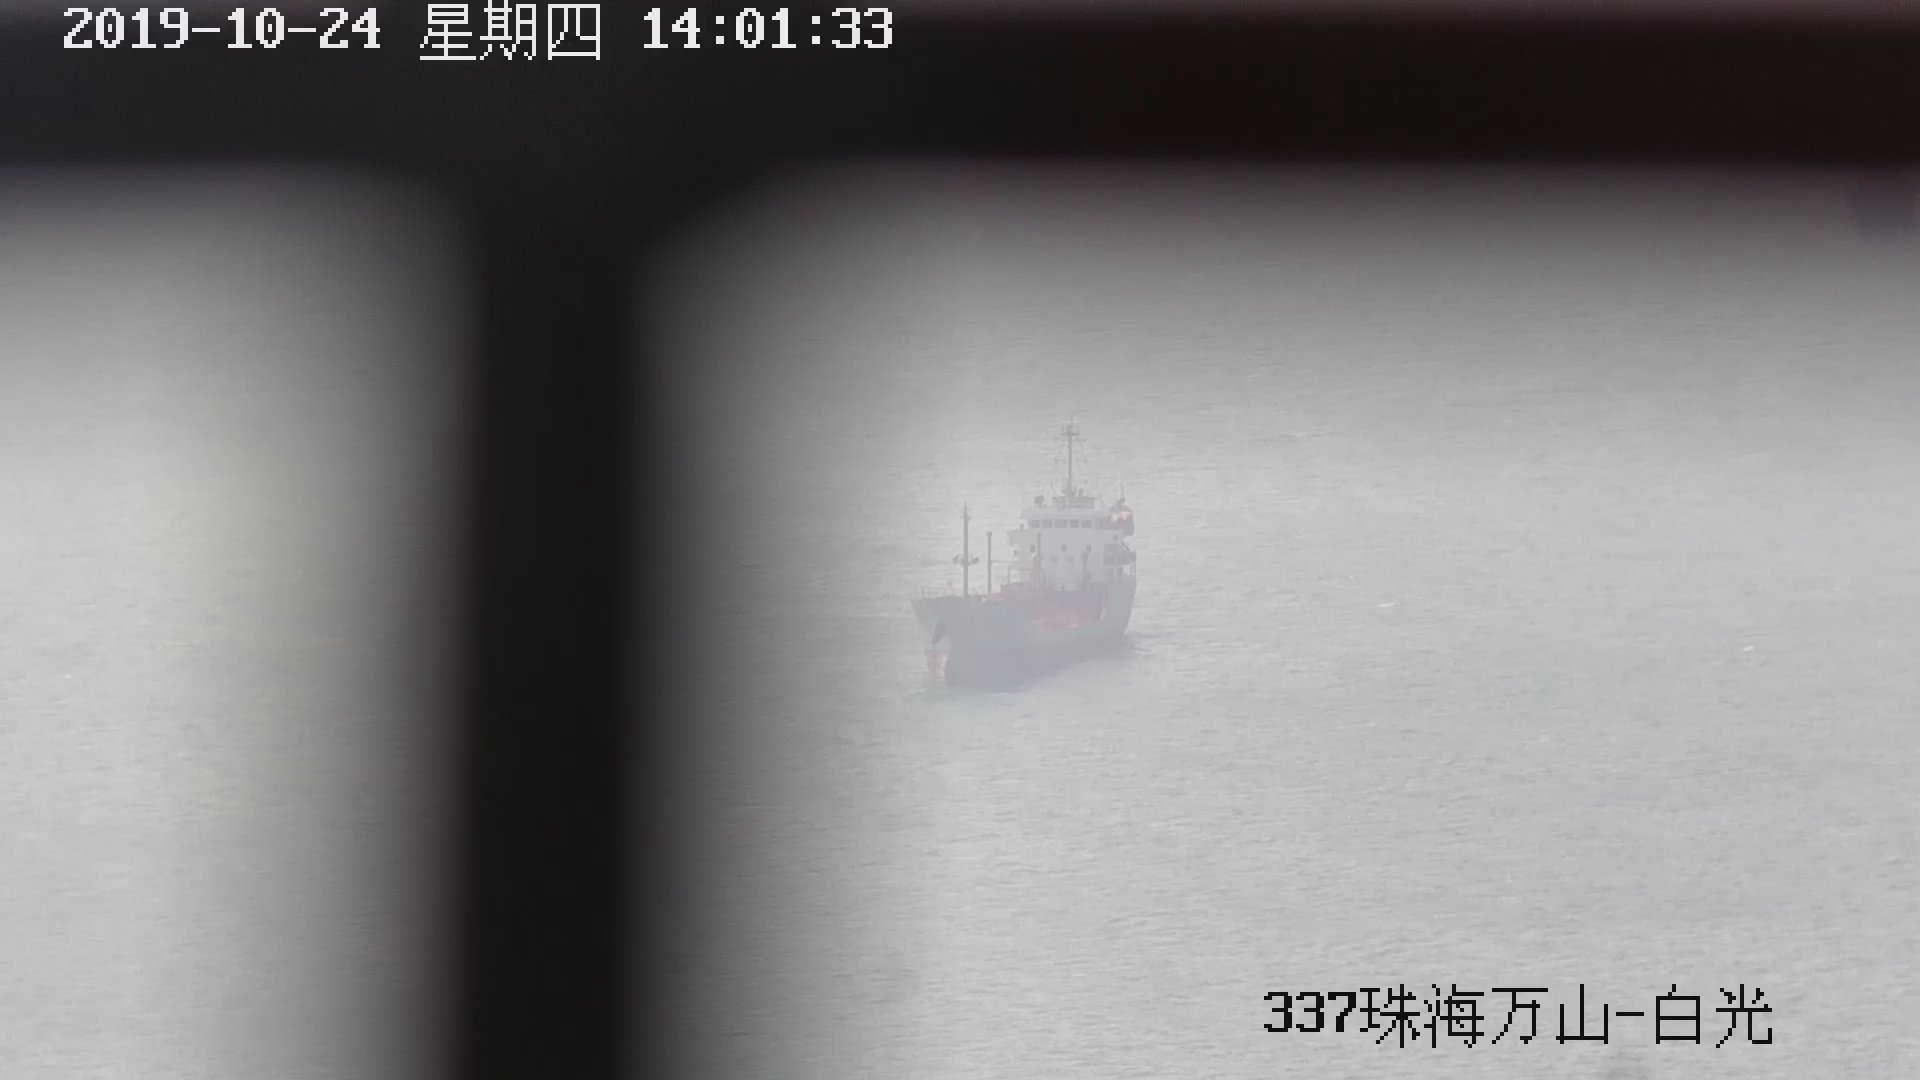ship: (899, 419, 1154, 700)
